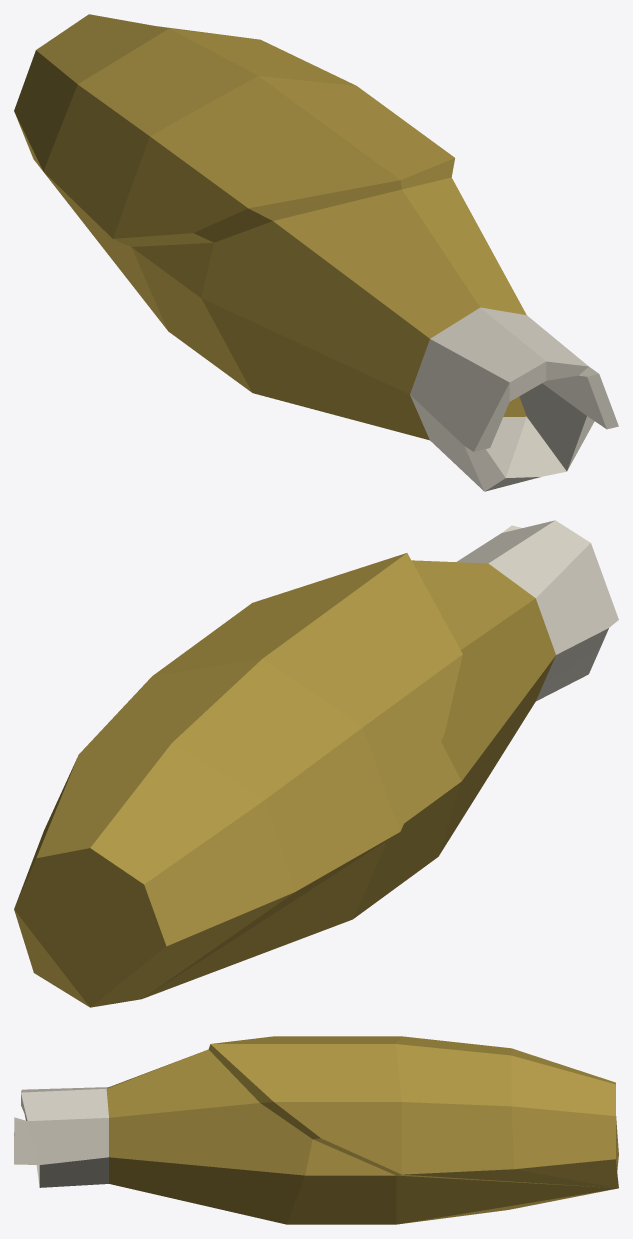
File: EA03_Items_House_Corn_01a.fbx
3 views of the same model, one above another, from view 1: azimuth 30°, elevation 25°; view 2: azimuth 150°, elevation 25°; view 3: azimuth 270°, elevation 25° (orthographic). The views are drawn at different scales.
Parts seen in each view (by area): view 1: EA03_Items_House_Corn_01a_LOD0; view 2: EA03_Items_House_Corn_01a_LOD0; view 3: EA03_Items_House_Corn_01a_LOD0.
Boxes of the visible parts, bbox=[...] form: EA03_Items_House_Corn_01a_LOD0: bbox=[14, 14, 618, 491]; EA03_Items_House_Corn_01a_LOD0: bbox=[14, 520, 618, 1007]; EA03_Items_House_Corn_01a_LOD0: bbox=[14, 1036, 618, 1224].
Size of what is drawn, in the model's own units: 0.1104 by 0.1025 by 0.3166.
